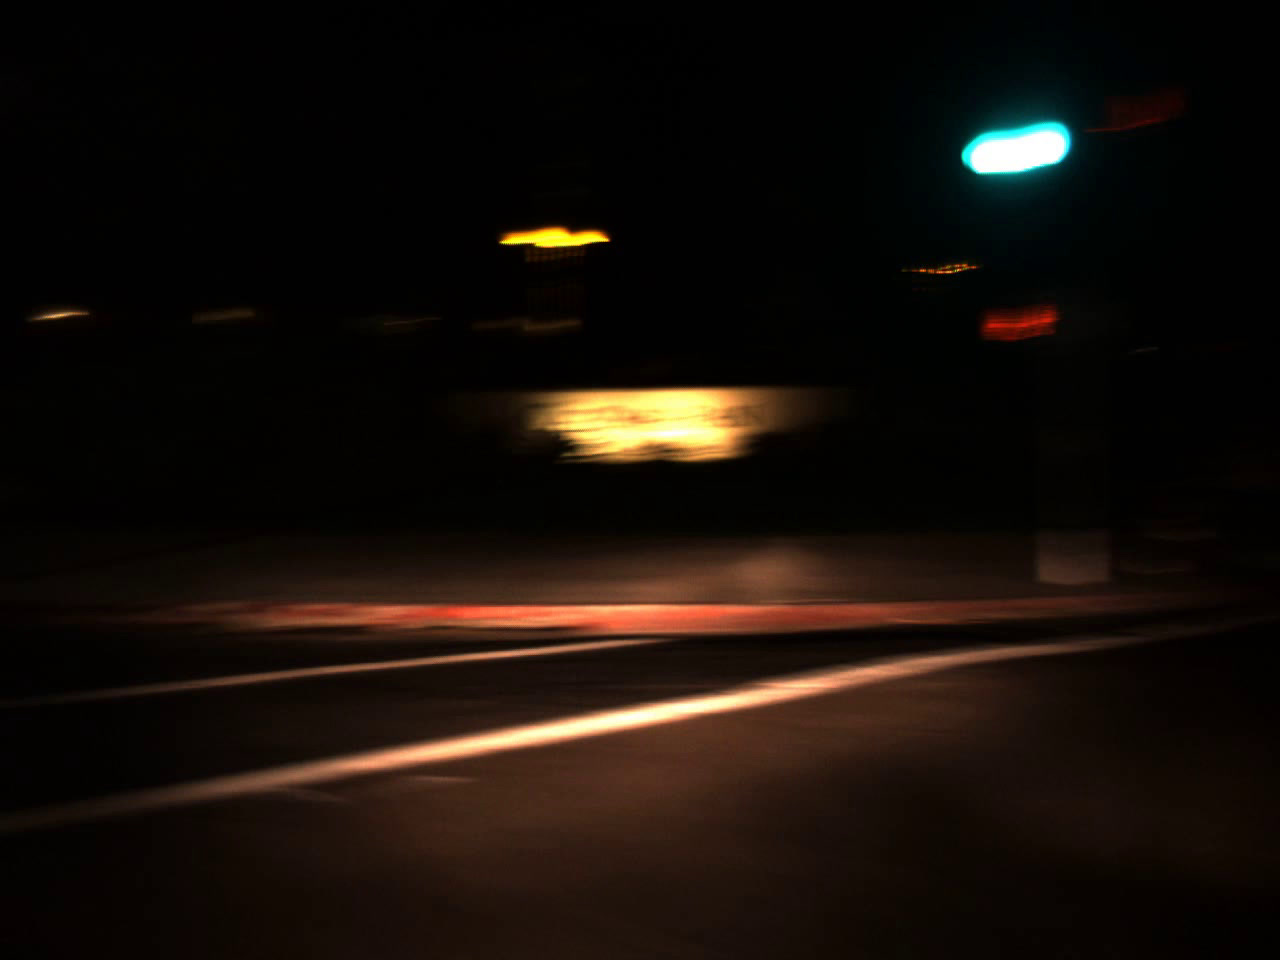go: (946, 74, 1091, 188)
